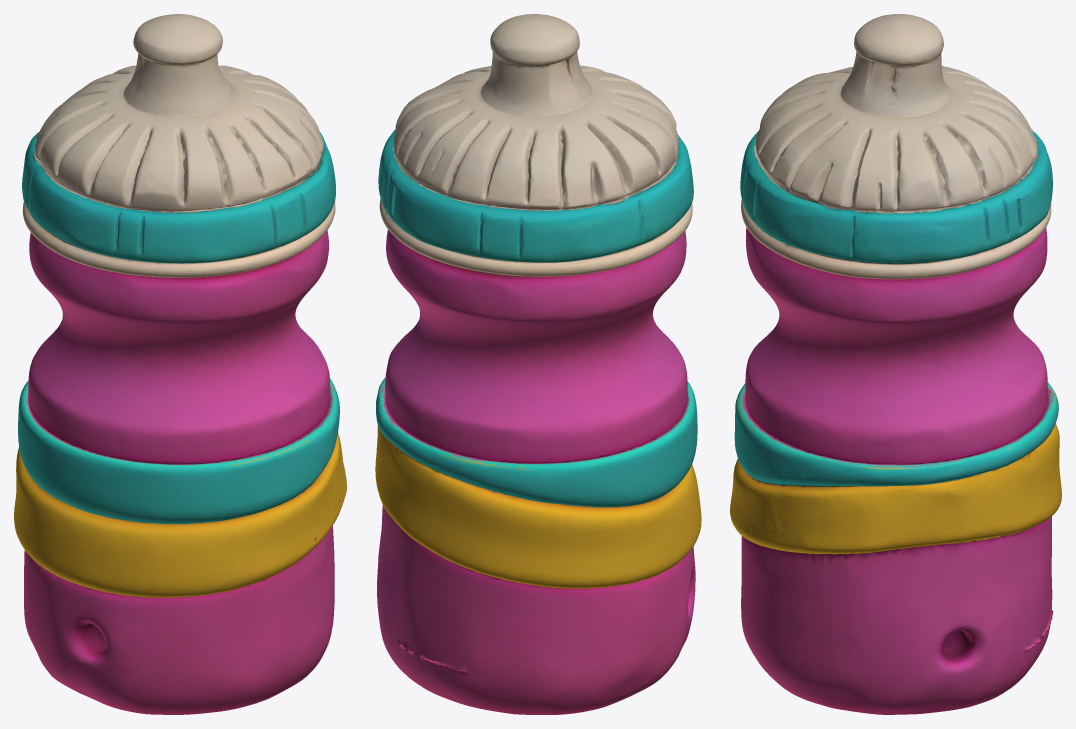
File: bottle.glb
3 renders of one model, left to right at view 1: azimuth 30°, elevation 25°; view 2: azimuth 150°, elevation 25°; view 3: azimuth 270°, elevation 25°, orthographic.
Parts seen in each view (by area): view 1: tripo_node_679cc77e-1f56-45d8-8eaf-ba28070bf928; view 2: tripo_node_679cc77e-1f56-45d8-8eaf-ba28070bf928; view 3: tripo_node_679cc77e-1f56-45d8-8eaf-ba28070bf928.
Part boxes in pixels (x1,y1,x2,y2): tripo_node_679cc77e-1f56-45d8-8eaf-ba28070bf928: (14,14,346,714); tripo_node_679cc77e-1f56-45d8-8eaf-ba28070bf928: (375,14,701,714); tripo_node_679cc77e-1f56-45d8-8eaf-ba28070bf928: (730,14,1061,714).
Bounding box in the file's own units: 0.4532 × 0.9796 × 0.4562.
Materials: 1 (1 with a texture image).
